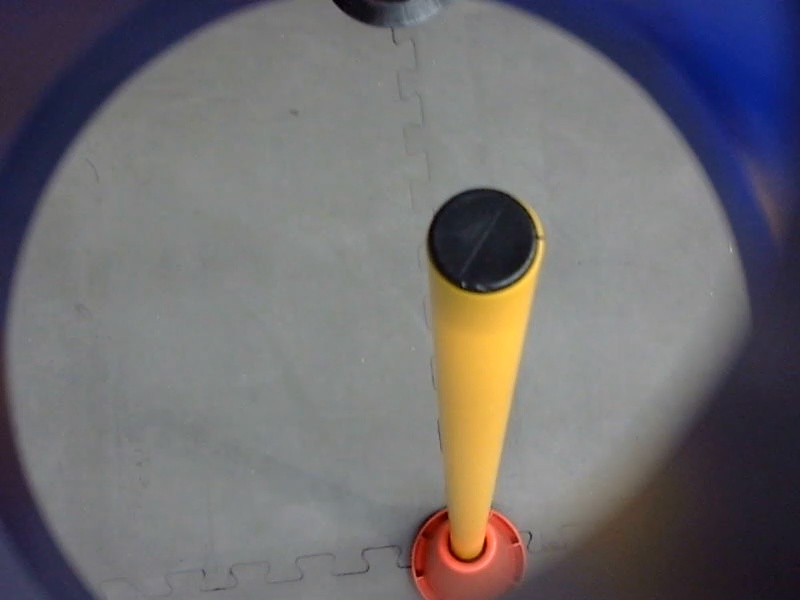tip: (420, 181, 552, 307)
